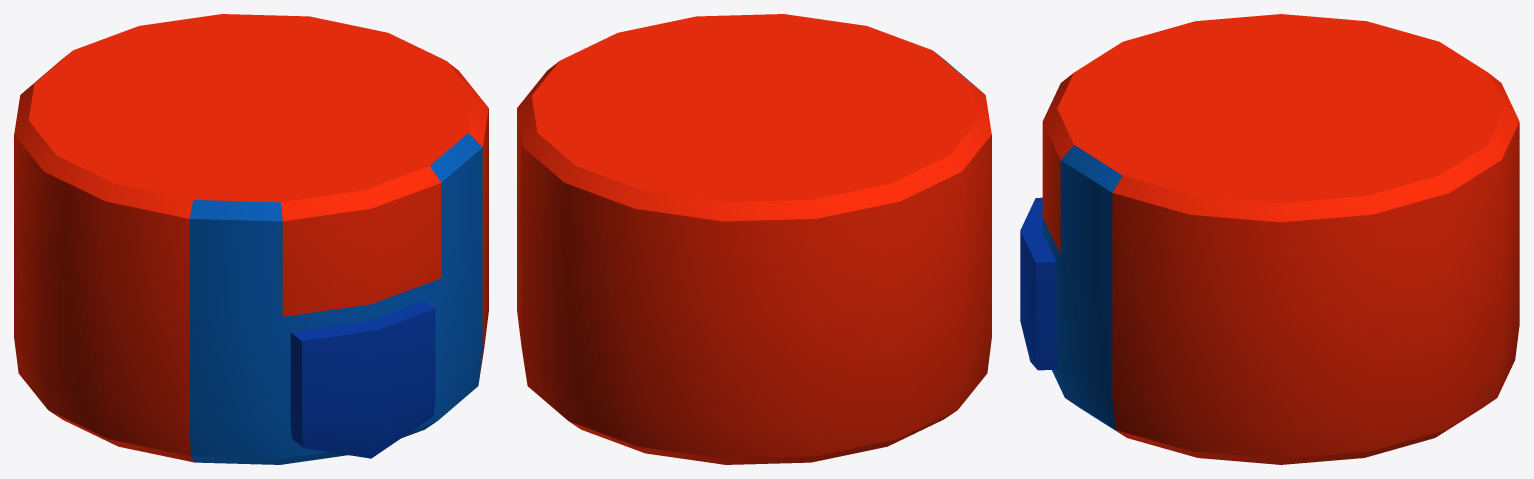
Rendered from Body_Dress_04.fbx.
The picture shows the model from 3 angles, left to right: view 1: azimuth 30°, elevation 25°; view 2: azimuth 150°, elevation 25°; view 3: azimuth 270°, elevation 25°; orthographic projection.
Parts seen in each view (by area): view 1: Body_Dress_04; view 2: Body_Dress_04; view 3: Body_Dress_04.
Part boxes in pixels (x1,y1,x2,y2): Body_Dress_04: [14, 14, 488, 464]; Body_Dress_04: [517, 14, 991, 464]; Body_Dress_04: [1020, 14, 1519, 464].
Bounding box in the file's own units: 100 × 61.13 × 105.
